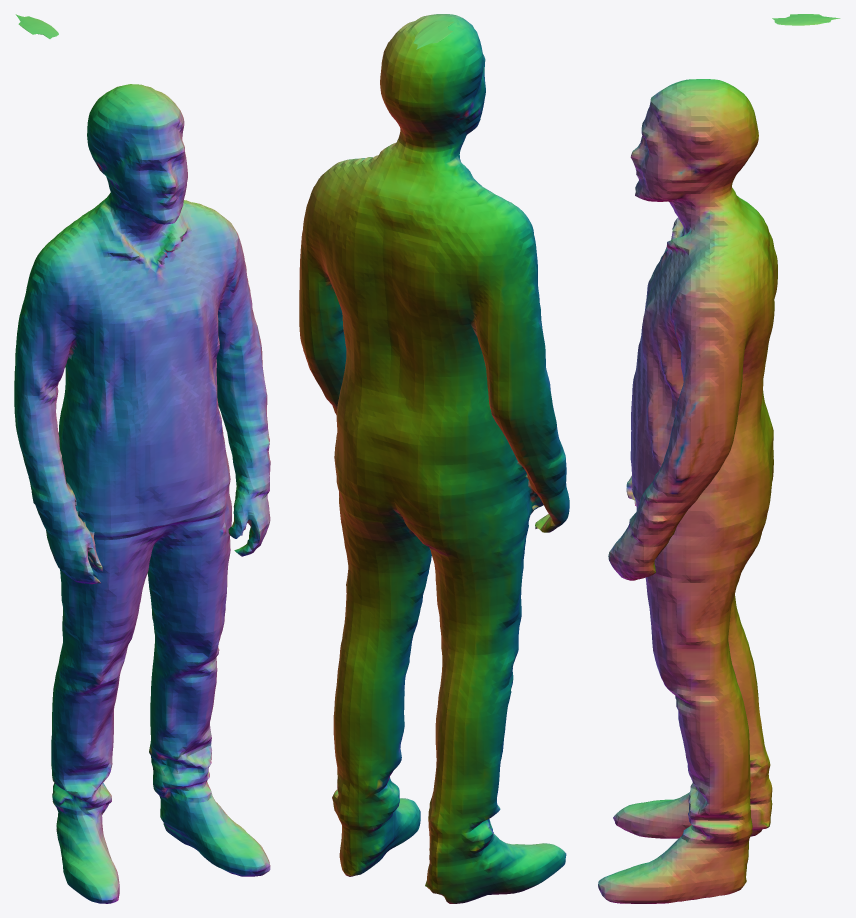
Rendered from pifuhd_1773670183804.obj.
The picture shows the model from 3 angles, left to right: view 1: azimuth 30°, elevation 25°; view 2: azimuth 150°, elevation 25°; view 3: azimuth 270°, elevation 25°; orthographic projection. The views are drawn at different scales.
Size of the model in its own units: 0.4434 by 1.5 by 0.4045.
